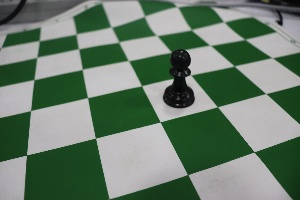black_pawn: (161, 41, 194, 112)
